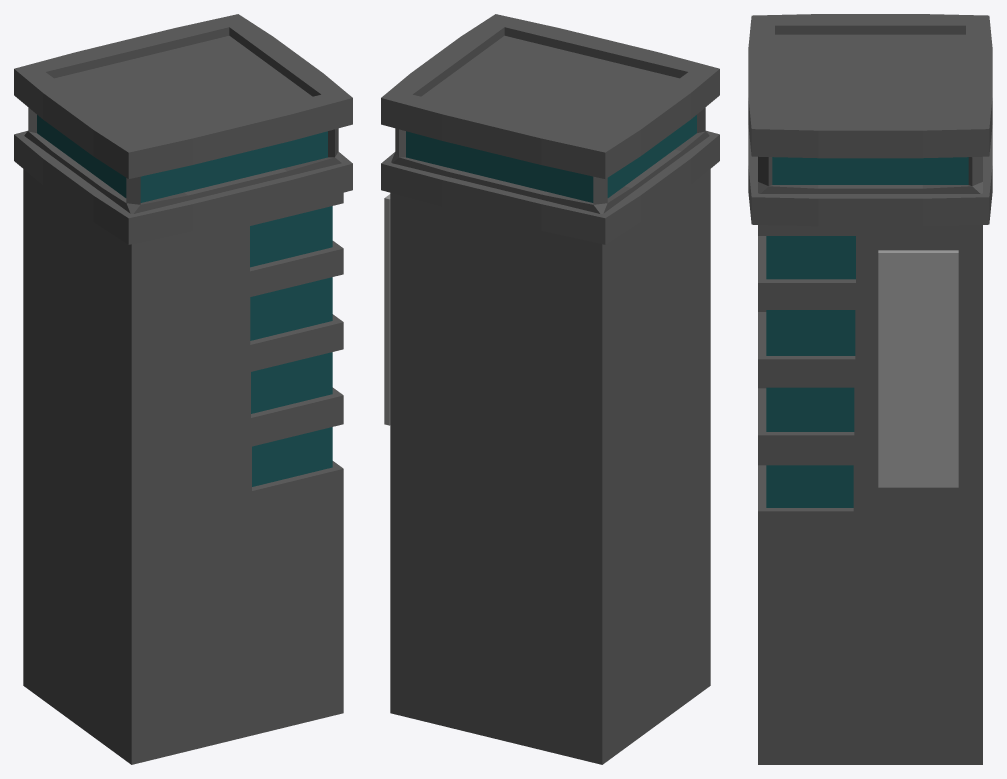
File: building 9a_jh_031725.fbx
The picture shows the model from 3 angles, left to right: view 1: azimuth 30°, elevation 25°; view 2: azimuth 150°, elevation 25°; view 3: azimuth 270°, elevation 25°; orthographic projection. The views are drawn at different scales.
Parts seen in each view (by area): view 1: Cube.013, Cube.109, Cube.110; view 2: Cube.013, Cube.110, Cube.108; view 3: Cube.013, Cube.108, Cube.109, Cube.110.
Part boxes in pixels (<box>): Cube.013: <box>14,14,352,764</box>; Cube.109: <box>250,206,332,486</box>; Cube.110: <box>37,115,327,202</box>; Cube.013: <box>381,14,719,764</box>; Cube.110: <box>406,115,696,202</box>; Cube.108: <box>384,194,390,425</box>; Cube.013: <box>748,14,992,764</box>; Cube.108: <box>878,250,958,487</box>; Cube.109: <box>766,236,855,507</box>; Cube.110: <box>772,157,968,184</box>.
Size of the model in its own units: 1353 by 3336 by 1155.
